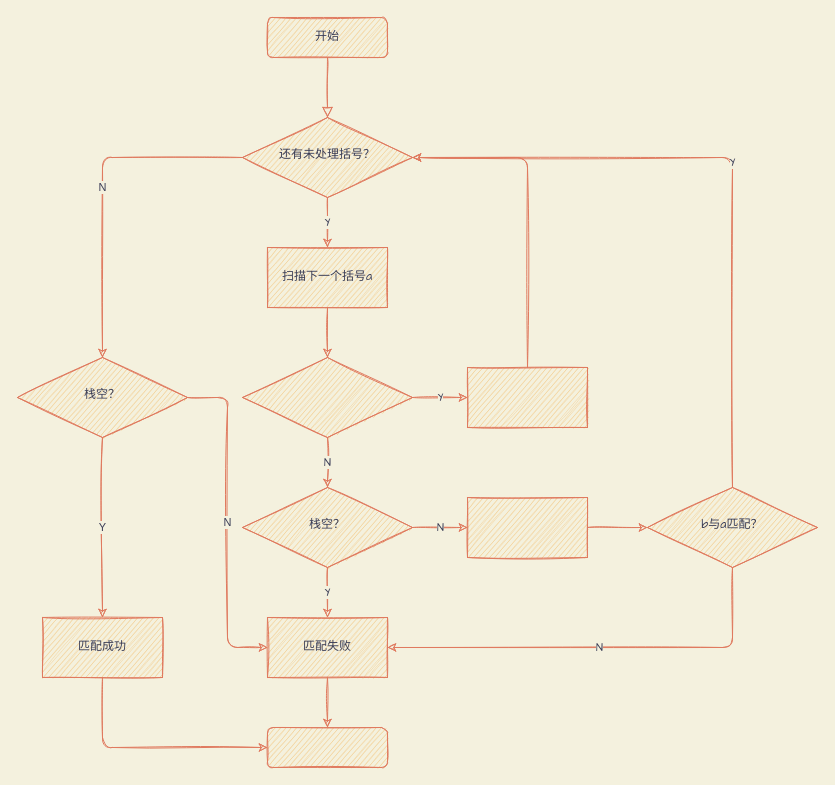
Some shapes in this 835 by 785 pixel diagram are drawn without their labels. The shapes that lost their labels are listed below. From the top down, each one's centre as x and y in pixels, then its label:
At point 327,397: "a是左括号？".
At point 527,397: "a压入栈顶".
At point 527,527: "弹出栈顶元素b".
At point 327,747: "结束".
